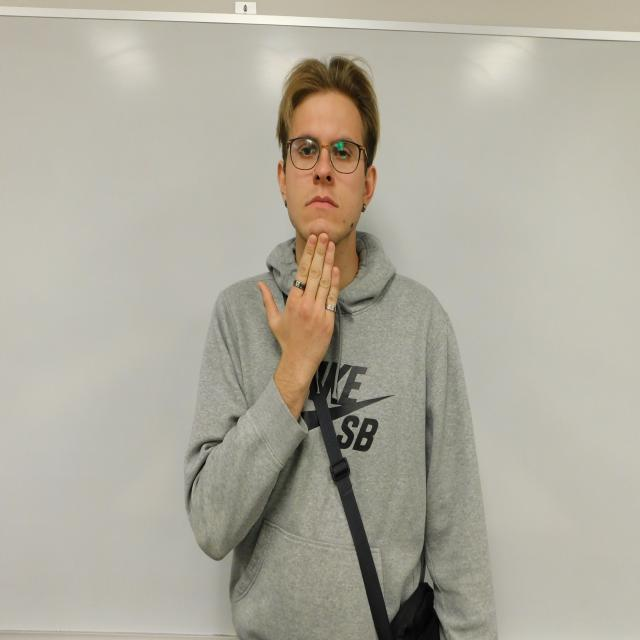thank-you: (258, 232, 340, 365)
